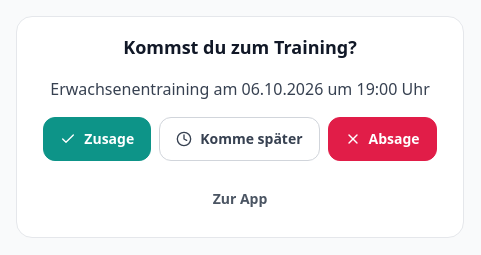
ActionPage › fragt beim Training nach „Komme später" statt „Unsicher"
The width and height of the screenshot is (481, 255).
expect the heading "Kommst du zum Training?" is shown: met, box [123,35,357,59]
Click the button "Komme später" at (239, 139), box [159,117,320,161]
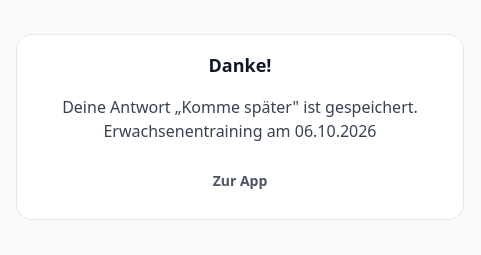
expect the text "Deine Antwort „Komme später\" ist gespeichert" is shown: met, box [62,96,418,118]
